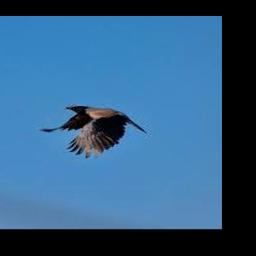Crow: (39, 105, 147, 158)
